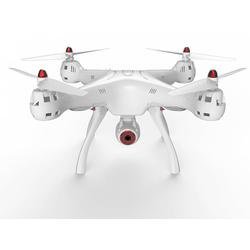drone: (5, 45, 247, 179)
